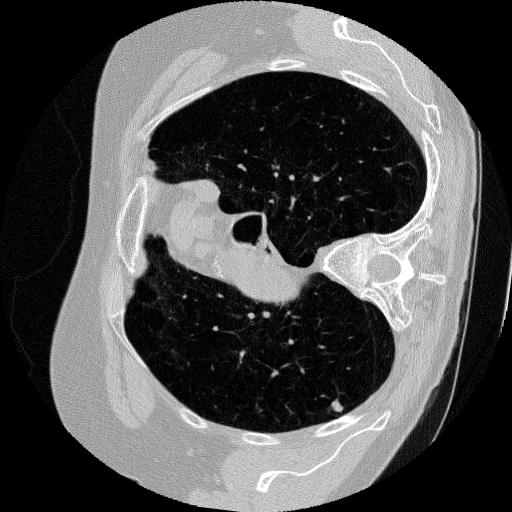nodule: (330, 397, 347, 414)
